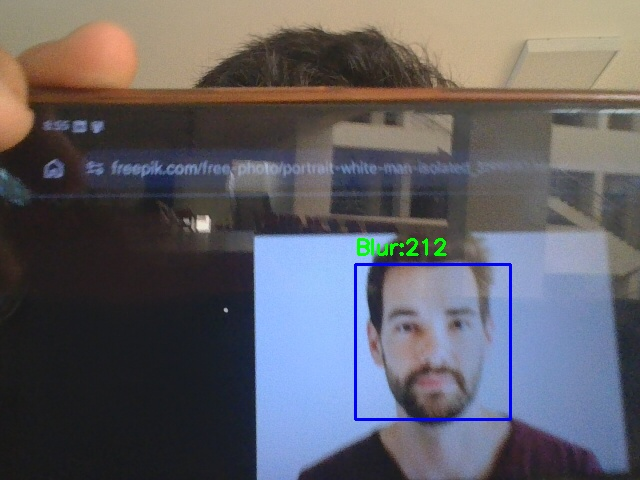fake: (355, 264, 510, 419)
